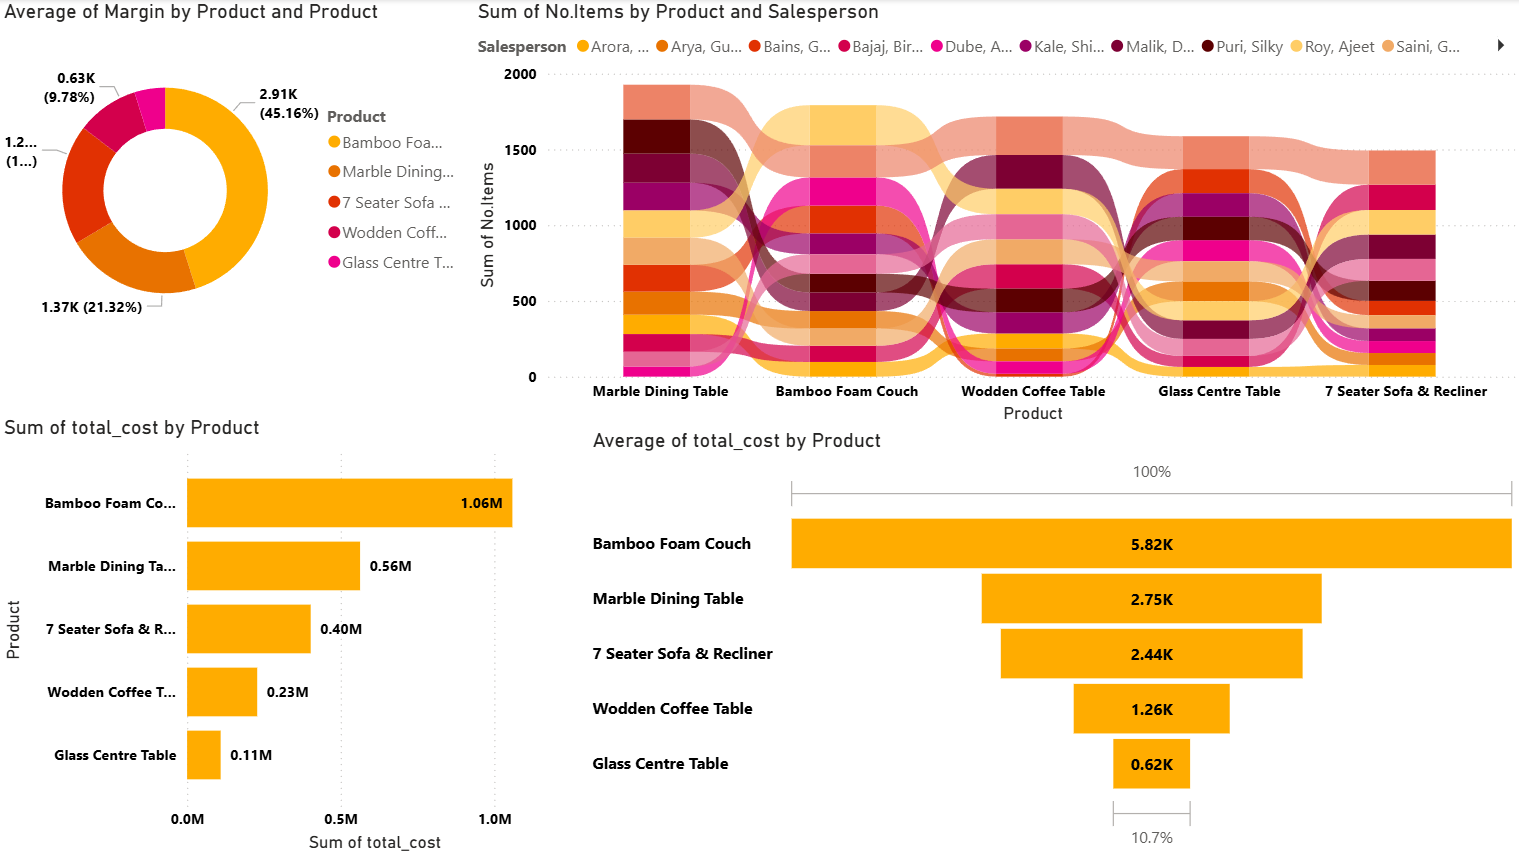

This screenshot's page, from the dashboard's own definition file:
{"tool":"powerbi","page":{"name":"Page 3","canvas":[1280,720],"ordinal":2},"visuals":[{"type":"donutChart","fields":{"Y":["Avg(Raw_Data.Margin)"],"Category":["Raw_Data.Product"],"Series":["Raw_Data.Product"]},"box":[0,0,397.7,302.3],"z":0},{"type":"ribbonChart","fields":{"Y":["Sum(Raw_Data.No.Items)"],"Category":["Raw_Data.Product"],"Series":["Raw_Data.Salesperson"]},"box":[397.7,0,882.6,360.5],"z":1000},{"type":"clusteredBarChart","fields":{"Y":["Sum(Raw_Data.total_cost)"],"Category":["Raw_Data.Product"]},"box":[0,348.8,494.2,370.9],"z":2000},{"type":"funnel","fields":{"Y":["Avg(Raw_Data.total_cost)"],"Category":["Raw_Data.Product"]},"box":[494,360,786,360],"z":3000}]}

Visuals, with their boxes in screenshot pixels (x1, y1, x2, y2), scaled from the page's 1280x720 canvas onto the 1519x853 screenshot:
donutChart - Avg(Raw_Data.Margin) x Raw_Data.Product: Rect(0, 0, 472, 358)
ribbonChart - Sum(Raw_Data.No.Items) x Raw_Data.Product: Rect(472, 0, 1518, 427)
clusteredBarChart - Sum(Raw_Data.total_cost) x Raw_Data.Product: Rect(0, 413, 586, 852)
funnel - Avg(Raw_Data.total_cost) x Raw_Data.Product: Rect(586, 426, 1518, 852)
